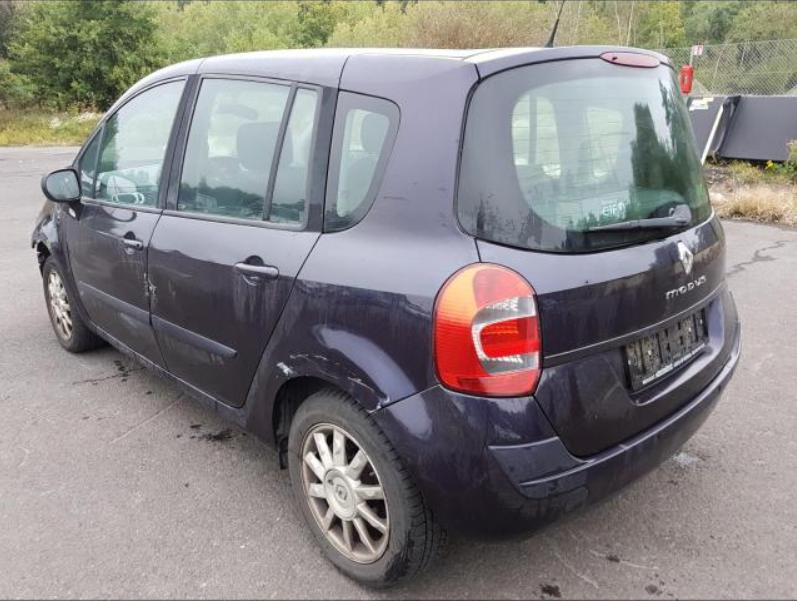Back-bumper: (369, 329, 742, 543)
Back-door: (148, 73, 340, 408)
Back-wheel: (288, 386, 448, 590)
Back-window: (178, 78, 316, 223), (323, 91, 401, 231)
Back-windshield: (457, 51, 712, 253)
Fender: (30, 199, 89, 319)
Front-door: (66, 75, 195, 372)
Front-wheel: (42, 255, 106, 353)
Front-window: (79, 79, 185, 208)
Mirror: (41, 167, 83, 221)
Quarter-panel: (244, 213, 480, 453)
Rocker-panel: (81, 315, 245, 431)
Roof: (183, 47, 519, 62)
Tail-light: (432, 260, 543, 397)
Trunk: (475, 206, 739, 458), (465, 45, 679, 79)
